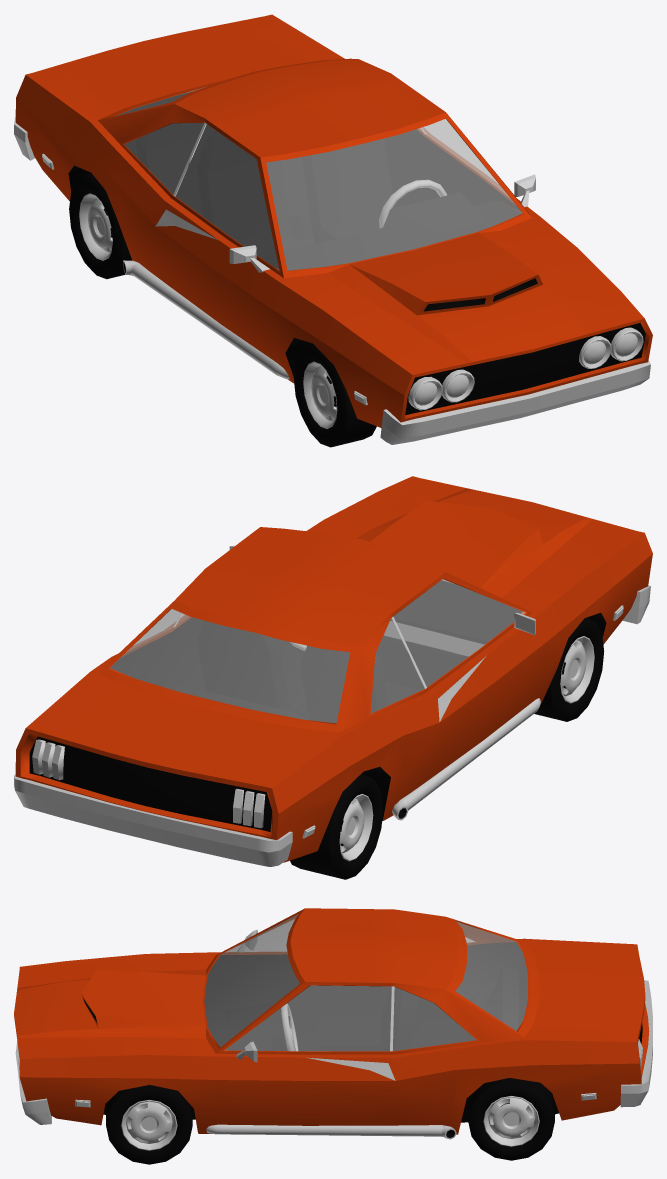
File: car1.obj
3 renders of one model, top to bottom at view 1: azimuth 30°, elevation 25°; view 2: azimuth 150°, elevation 25°; view 3: azimuth 270°, elevation 25°, orthographic. The views are drawn at different scales.
Visible parts, largest first — view 1: Cube, Cube.001, Cube.005; view 2: Cube, Cube.005, Cube.001; view 3: Cube, Cube.002, Cube.004.
Part boxes in pixels (left/top/right/bottom): Cube: left=14, top=14, right=652, bottom=444; Cube.001: left=293, top=343, right=376, bottom=447; Cube.005: left=69, top=173, right=132, bottom=279; Cube: left=14, top=476, right=652, bottom=866; Cube.005: left=290, top=774, right=383, bottom=879; Cube.001: left=534, top=617, right=604, bottom=721; Cube: left=14, top=908, right=652, bottom=1139; Cube.002: left=468, top=1078, right=554, bottom=1160; Cube.004: left=106, top=1085, right=192, bottom=1164.
Size of the model in its own units: 5.46 by 3.6 by 12.16.
